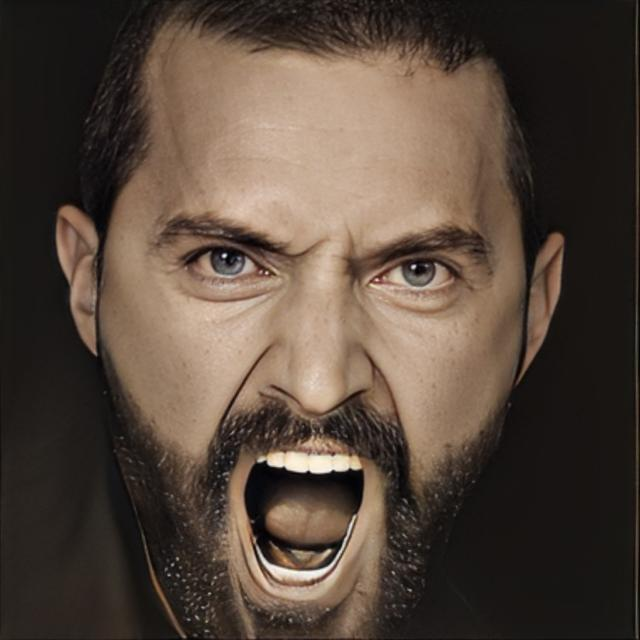anger: (106, 35, 526, 619)
